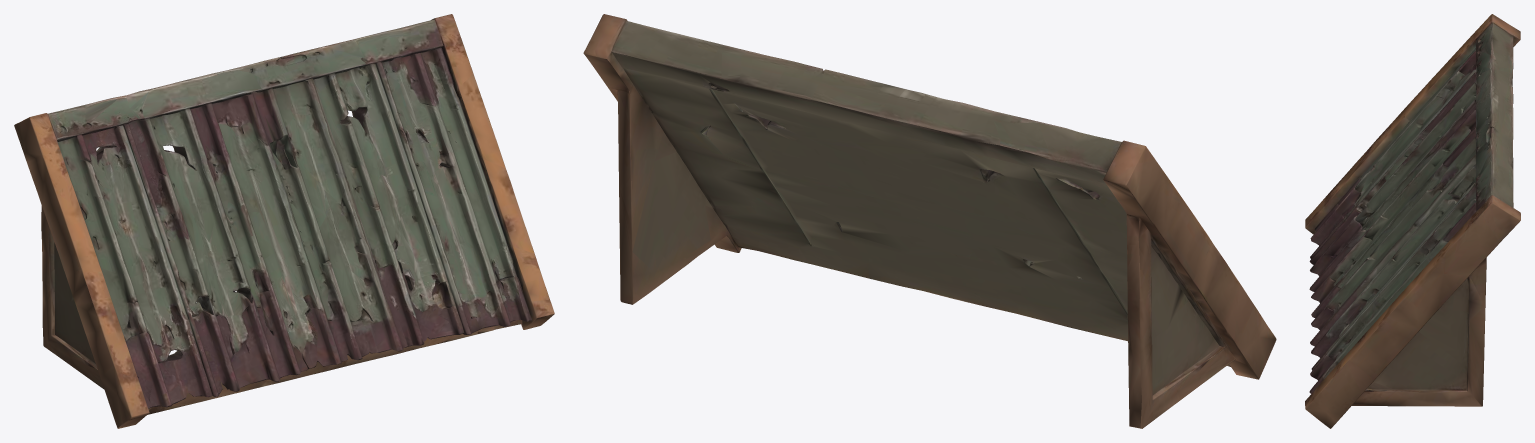
File: roof_gable_metal_ok_idle.glb
3 renders of one model, left to right at view 1: azimuth 30°, elevation 25°; view 2: azimuth 150°, elevation 25°; view 3: azimuth 270°, elevation 25°, orthographic. The views are drawn at different scales.
Visible parts, largest first — view 1: tripo_node_f86c0ac9-af0d-4c64-9a80-2574ace6f4b8; view 2: tripo_node_f86c0ac9-af0d-4c64-9a80-2574ace6f4b8; view 3: tripo_node_f86c0ac9-af0d-4c64-9a80-2574ace6f4b8.
Part boxes in pixels (<box>): tripo_node_f86c0ac9-af0d-4c64-9a80-2574ace6f4b8: <box>14,14,554,428</box>; tripo_node_f86c0ac9-af0d-4c64-9a80-2574ace6f4b8: <box>583,14,1276,428</box>; tripo_node_f86c0ac9-af0d-4c64-9a80-2574ace6f4b8: <box>1305,14,1520,428</box>.
Bounding box in the file's own units: 3 × 1.67 × 1.44.
1 material, 1 textured.
